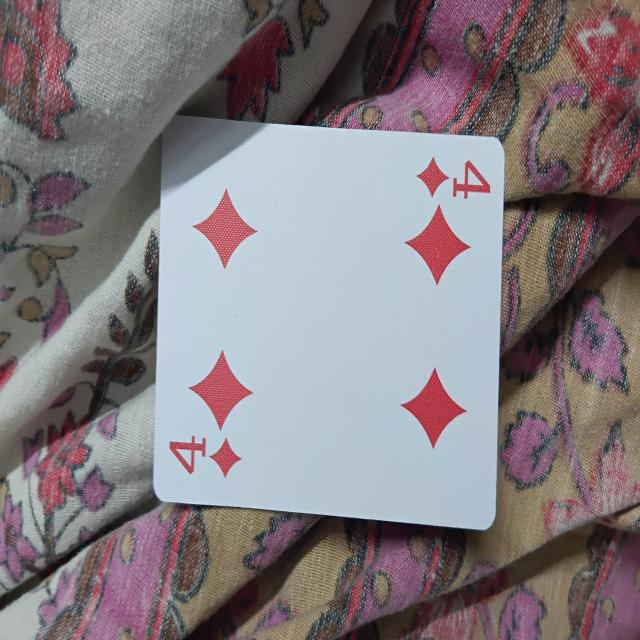4D: (149, 126, 506, 531)
